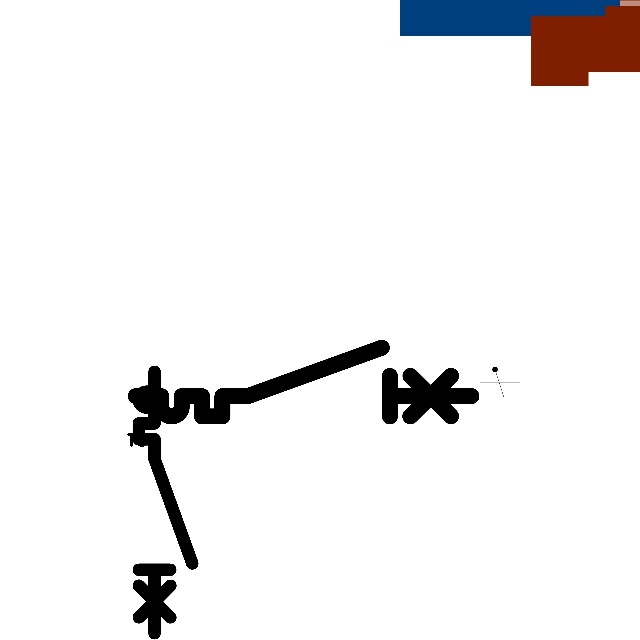interruptor_termomagnetico: (127, 339, 480, 425), (132, 365, 199, 640)
